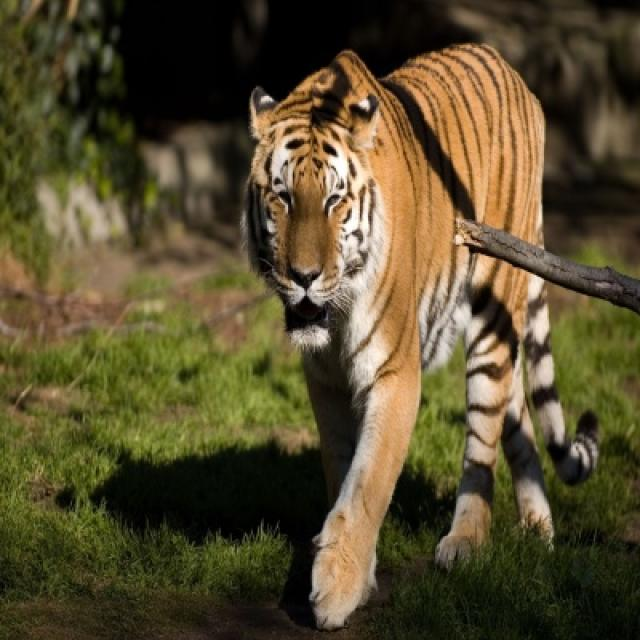Tiger: (246, 47, 599, 622)
